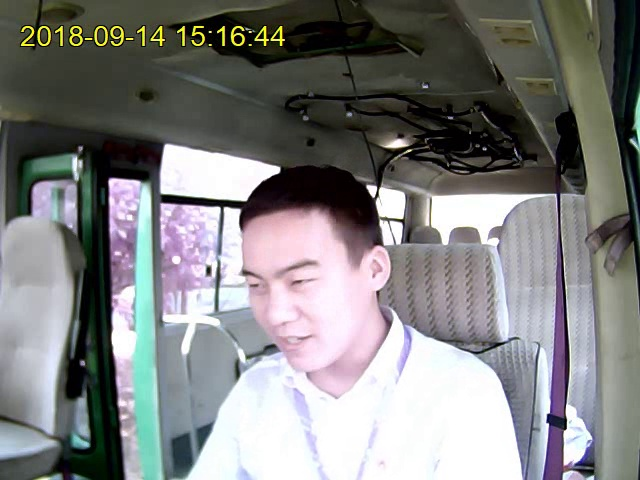closed_mouth: (278, 331, 313, 350)
